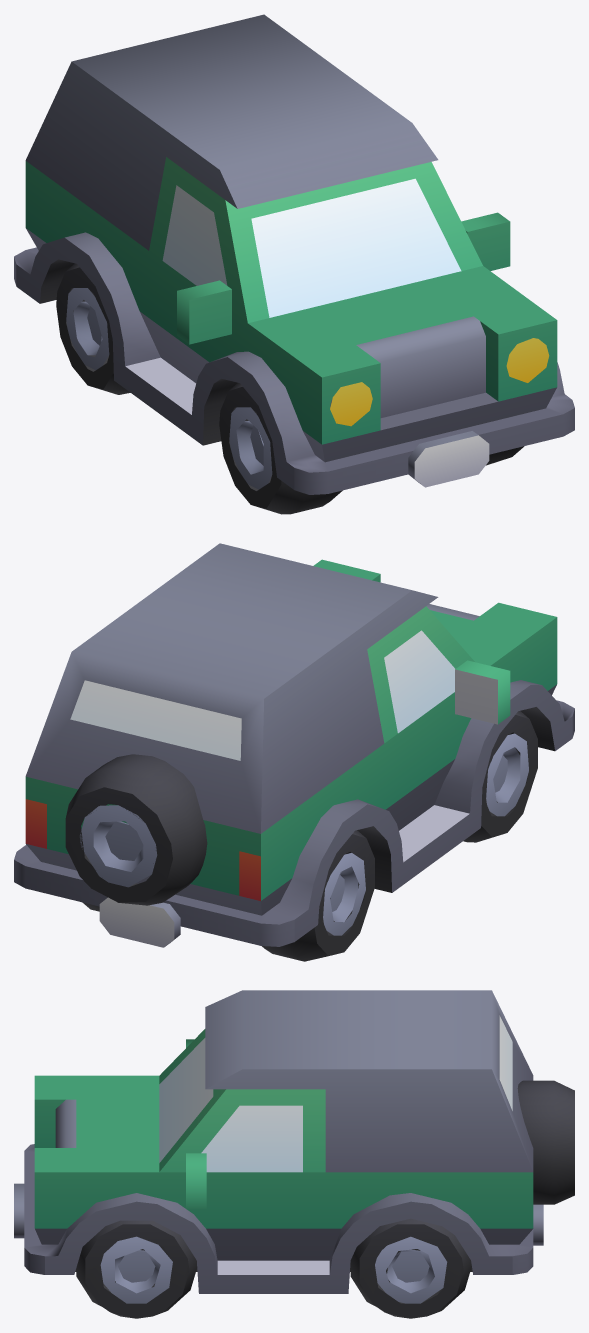
Rendered from suv.glb.
3 renders of one model, top to bottom at view 1: azimuth 30°, elevation 25°; view 2: azimuth 150°, elevation 25°; view 3: azimuth 270°, elevation 25°, orthographic. The views are drawn at different scales.
Visible parts, largest first — view 1: body; view 2: body; view 3: body.
Boxes of the visible parts, left/top/right/bottom form: body: left=14, top=14, right=574, bottom=514; body: left=14, top=543, right=574, bottom=961; body: left=14, top=990, right=574, bottom=1318.
Size of the model in its own units: 2.25 by 1.95 by 4.05.
Materials: 1 (1 with a texture image).
